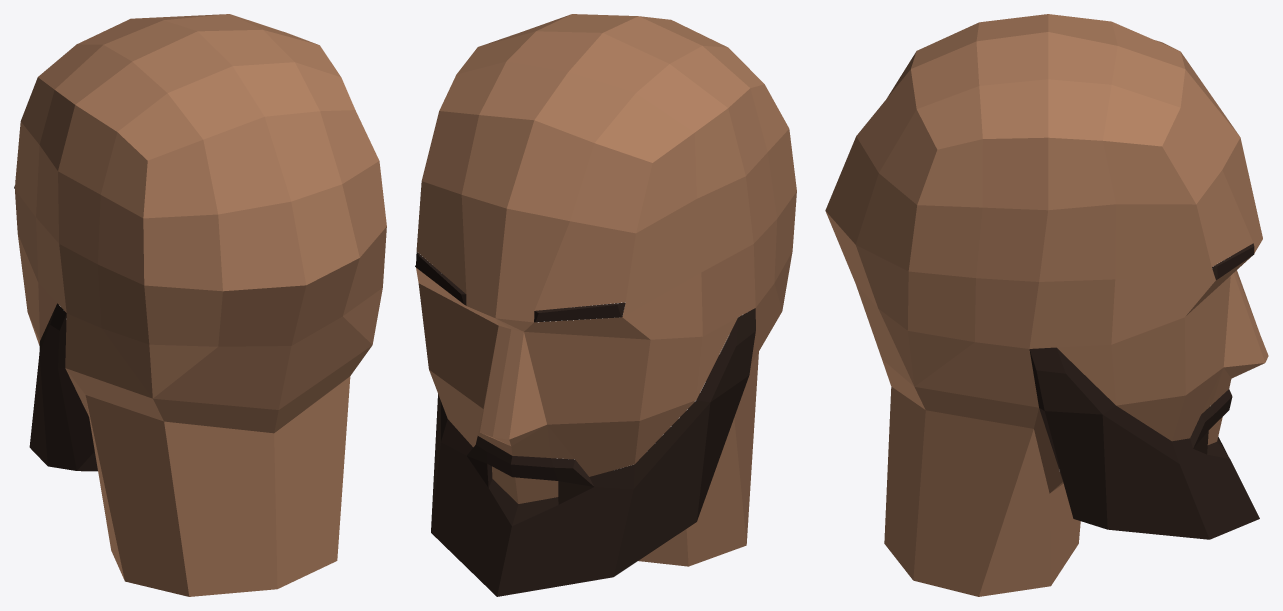
The model's file is poly_head.gltf.
3 views of the same model, side by side, from view 1: azimuth 30°, elevation 25°; view 2: azimuth 150°, elevation 25°; view 3: azimuth 270°, elevation 25° (orthographic). The views are drawn at different scales.
Visible parts, largest first — view 1: Cube_0; view 2: Cube_0; view 3: Cube_0.
Boxes of the visible parts, left/top/right/bottom form: Cube_0: left=14, top=14, right=386, bottom=596; Cube_0: left=415, top=14, right=796, bottom=596; Cube_0: left=825, top=14, right=1268, bottom=596.
Bounding box in the file's own units: 0.7693 × 1.28 × 1.
